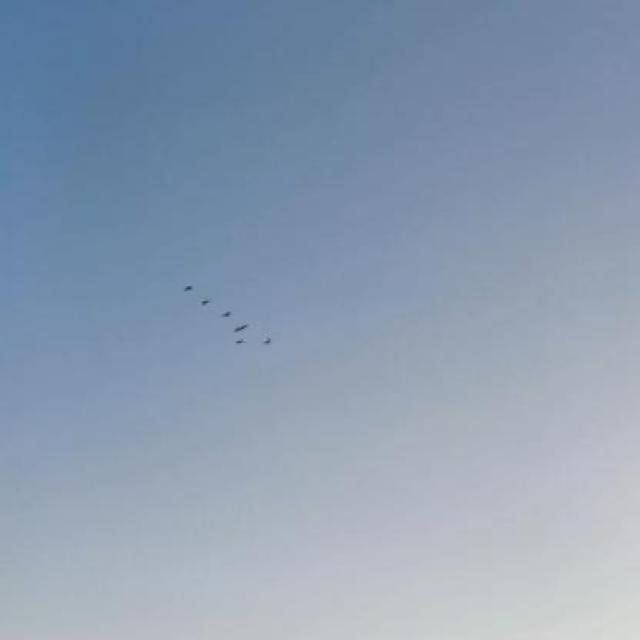bird: (230, 323, 250, 335), (179, 284, 201, 294), (198, 298, 214, 308), (262, 336, 276, 347), (232, 339, 248, 346), (220, 312, 234, 320)
